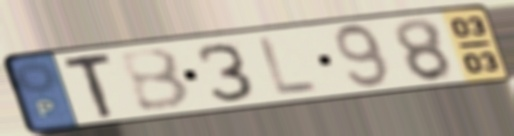3: (196, 41, 258, 104)
8: (390, 15, 456, 84)
9: (334, 21, 395, 92)
B: (115, 45, 196, 114)
L: (255, 34, 321, 97)
T: (61, 50, 117, 121)
